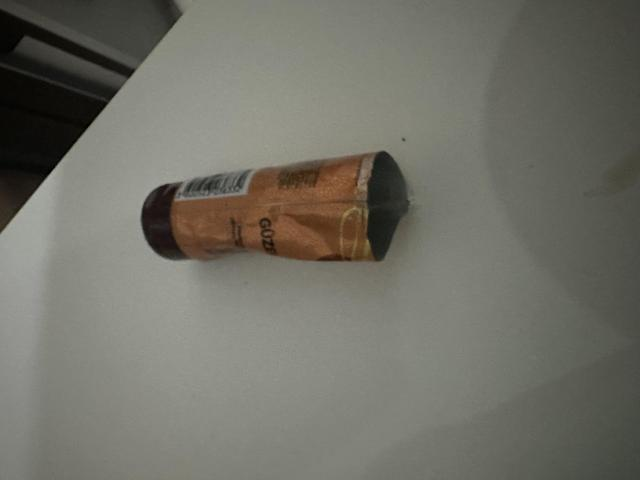Plastik: (148, 152, 411, 267)
